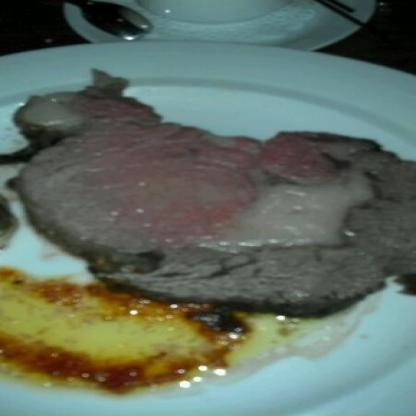beef: (16, 73, 414, 320)
